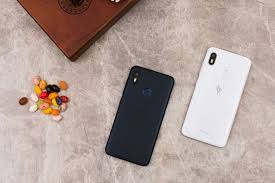vsmart: (181, 42, 251, 149), (104, 59, 174, 166)
